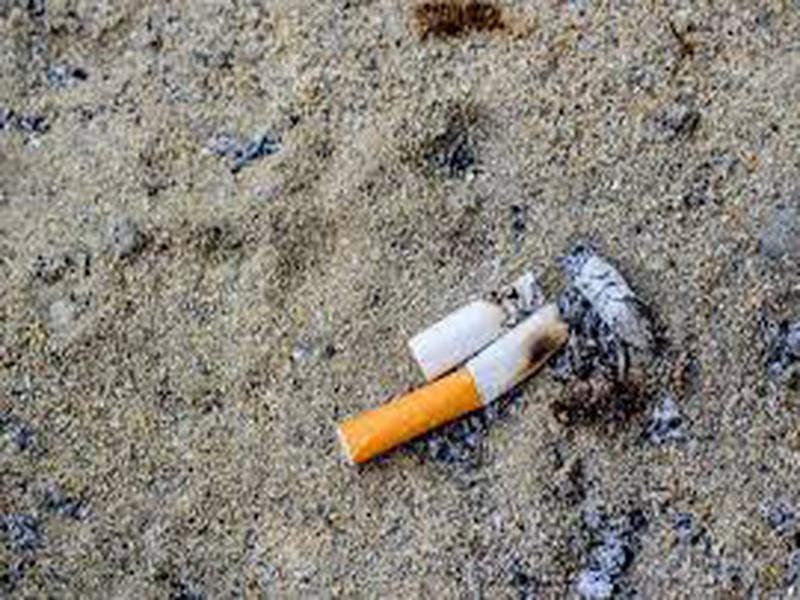burned_cigarette: (330, 304, 577, 473), (404, 265, 546, 383)
